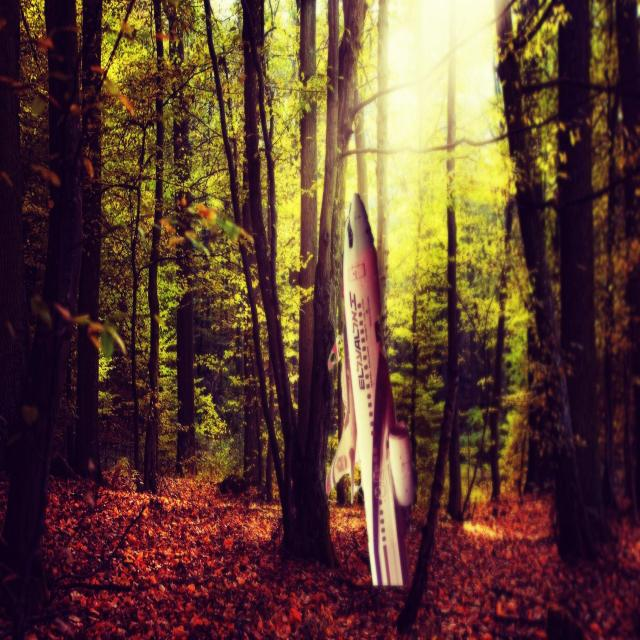airplane: (325, 191, 415, 589)
